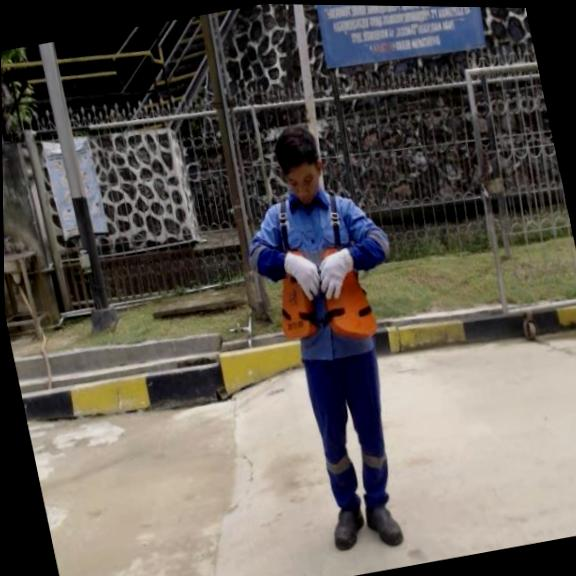safety_vest: (263, 236, 383, 354)
